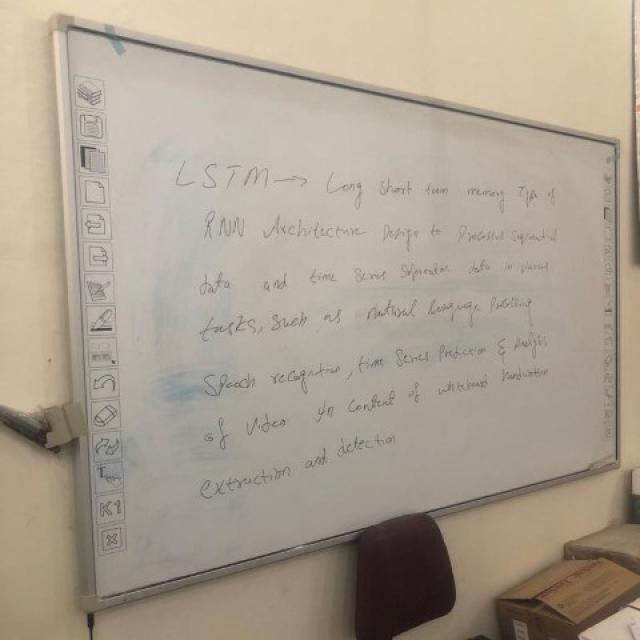White-board: (62, 15, 624, 608)
